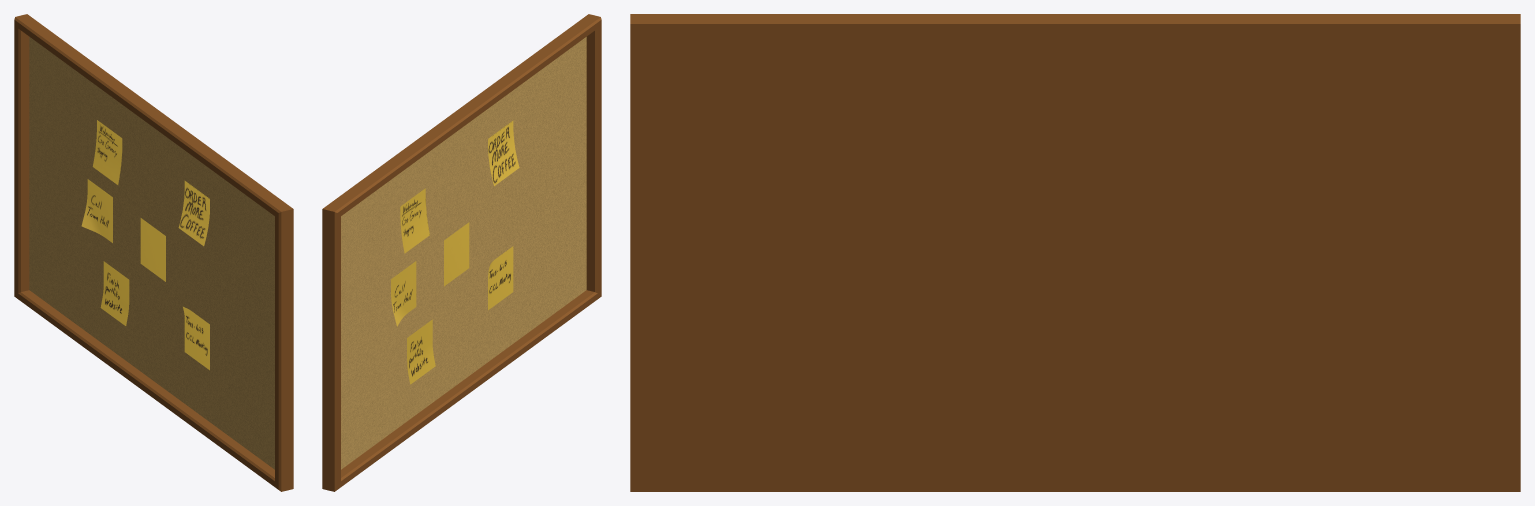
Rendered from corkboard.glb.
3 renders of one model, left to right at view 1: azimuth 30°, elevation 25°; view 2: azimuth 150°, elevation 25°; view 3: azimuth 270°, elevation 25°, orthographic. The views are drawn at different scales.
Parts seen in each view (by area): view 1: Corkboard, Postit.005, Postit.002, Postit.006, Postit.003, Postit.004, Postit.001; view 2: Corkboard, Postit.005, Postit.002, Postit.003, Postit.001, Postit.004, Postit.006; view 3: Corkboard.
Boxes of the visible parts, bbox=[...] form: Corkboard: bbox=[14, 14, 293, 491]; Postit.005: bbox=[178, 180, 209, 246]; Postit.002: bbox=[92, 120, 122, 185]; Postit.006: bbox=[81, 179, 112, 242]; Postit.003: bbox=[100, 261, 129, 325]; Postit.004: bbox=[183, 306, 209, 370]; Postit.001: bbox=[140, 218, 165, 281]; Corkboard: bbox=[322, 14, 601, 491]; Postit.005: bbox=[488, 120, 519, 186]; Postit.002: bbox=[400, 188, 429, 253]; Postit.003: bbox=[407, 319, 435, 384]; Postit.001: bbox=[444, 222, 469, 286]; Postit.004: bbox=[488, 246, 513, 310]; Postit.006: bbox=[391, 261, 416, 326]; Corkboard: bbox=[630, 14, 1520, 491].
Bounding box in the file's own units: 0.444 × 8.59 × 14.8.
Materials: 3 (2 with a texture image).
